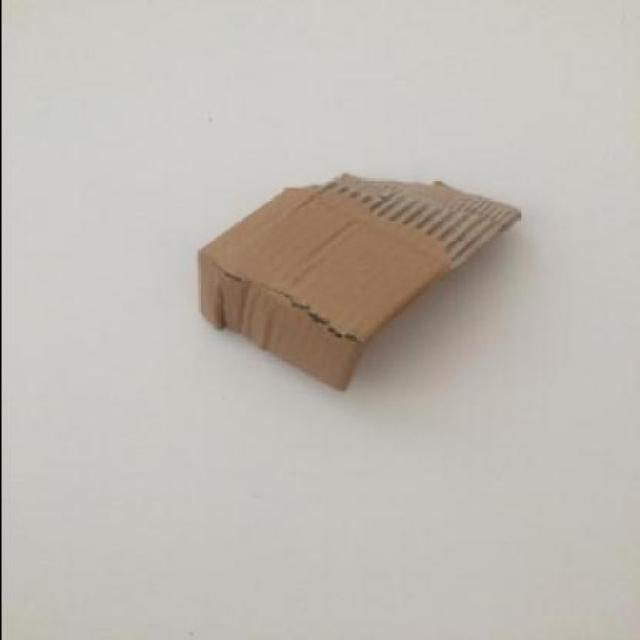CARDBOARD: (198, 170, 522, 390)
